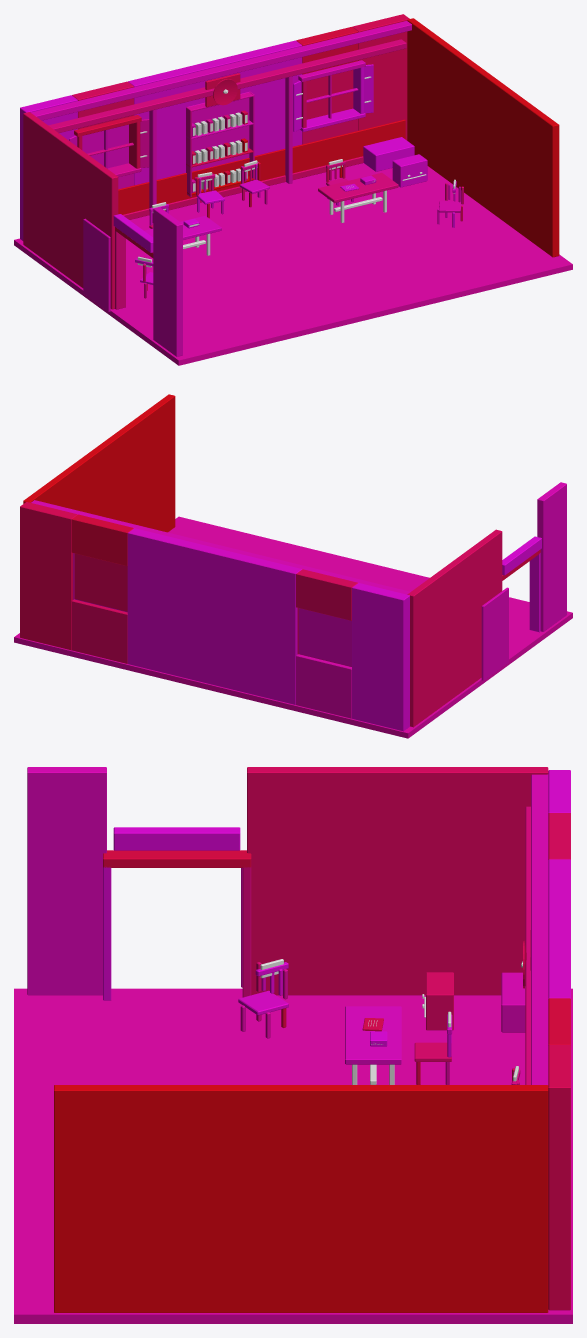
File: court_chapter_09.glb
3 renders of one model, top to bottom at view 1: azimuth 30°, elevation 25°; view 2: azimuth 150°, elevation 25°; view 3: azimuth 270°, elevation 25°, orthographic. The views are drawn at different scales.
Parts seen in each view (by area): view 1: Floor, WallRight, WallLeftRear, WallBackPier_1, Wainscot, CorniceRear, WallLeftFront, WallBackPier_end, ChanceryCornice, ChanceryArchive, OpenDoorLeaf, ChanceryArchive_Records (+27 smaller); view 2: WallBackPier_1, WallLeftRear, WallRight, Floor, WallBackPier_0, WallBackPier_end, WallLeftFront, WallBackLow_1, WallBackLow_0, Glazing_1, Glazing_0, WallBackHigh_1 (+5 smaller); view 3: WallRight, WallLeftRear, Floor, WallLeftFront, WallBackPier_end, CorniceRear, Desk_0, WallBackPier_1, DoorLintel, EntranceHeader, Chair_officials_2, ChanceryCornice (+8 smaller).
Boxes of the visible parts, x1,y1,x2,y2 form: Floor: (14, 163, 572, 365); WallRight: (407, 18, 559, 257); WallLeftRear: (23, 112, 118, 309); WallBackPier_1: (128, 40, 302, 185); Wainscot: (118, 119, 405, 214); CorniceRear: (31, 21, 411, 120); WallLeftFront: (153, 207, 182, 356); WallBackPier_end: (352, 14, 409, 140); ChanceryCornice: (48, 39, 406, 132); ChanceryArchive: (186, 91, 254, 197); OpenDoorLeaf: (83, 218, 110, 311); ChanceryArchive_Records: (192, 110, 247, 192); WallBackPier_1: (127, 528, 301, 704); WallLeftRear: (407, 529, 502, 727); WallRight: (23, 394, 175, 532); Floor: (14, 516, 572, 738); WallBackPier_0: (352, 583, 409, 731); WallBackPier_end: (20, 502, 77, 650); WallLeftFront: (537, 482, 566, 631); WallBackLow_1: (71, 599, 127, 663); WallBackLow_0: (296, 654, 351, 718); Glazing_1: (74, 553, 127, 611); Glazing_0: (298, 608, 351, 666); WallBackHigh_1: (71, 514, 133, 566); WallRight: (54, 1085, 548, 1312); WallLeftRear: (247, 767, 548, 995); Floor: (14, 988, 572, 1323); WallLeftFront: (27, 767, 106, 995); WallBackPier_end: (548, 1045, 570, 1310); CorniceRear: (531, 774, 548, 1084); Desk_0: (345, 1006, 401, 1084); WallBackPier_1: (548, 859, 570, 998); DoorLintel: (113, 827, 240, 850); EntranceHeader: (103, 850, 251, 867); Chair_officials_2: (238, 959, 288, 1038); ChanceryCornice: (525, 806, 530, 1084).
Size of the model in its own units: 11.7 by 3.85 by 8.4.
